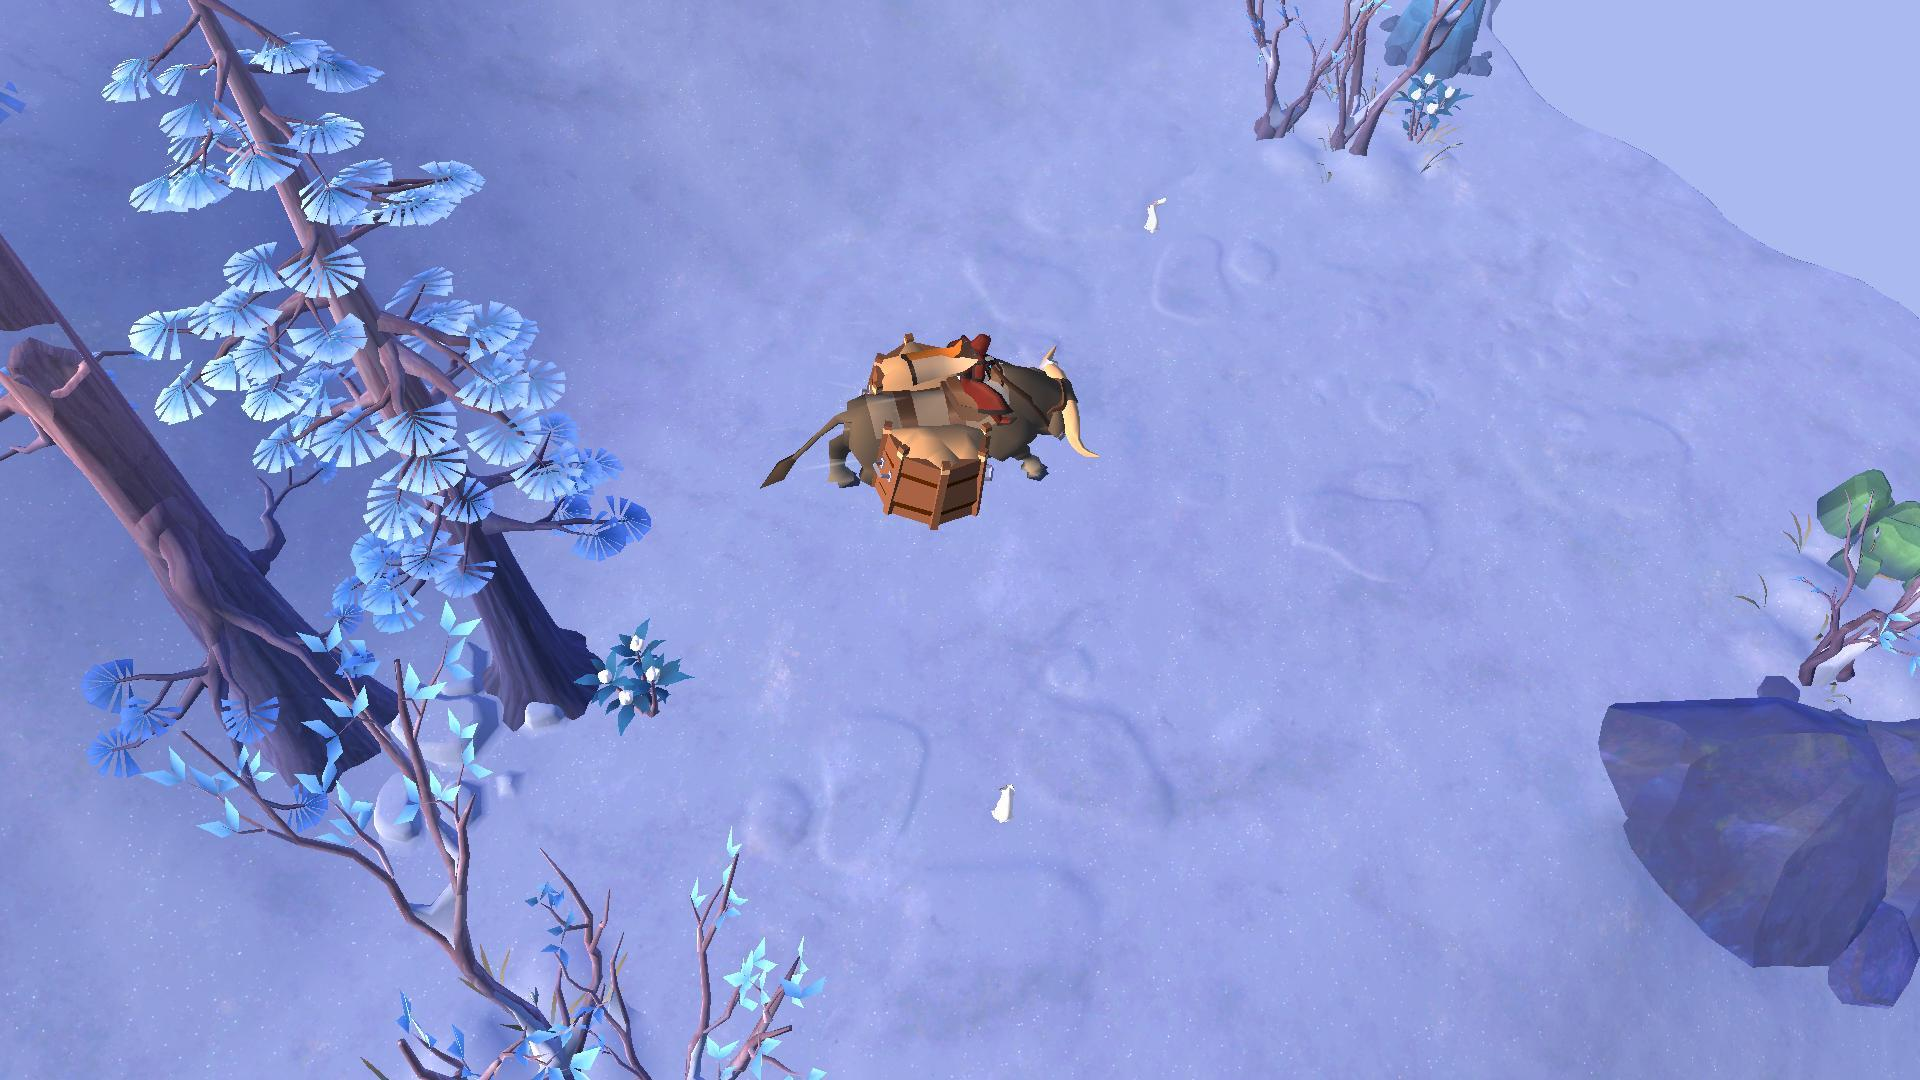fiber_t4: (580, 616, 687, 731), (1396, 67, 1468, 136)
rock_t3: (1808, 464, 1920, 574)
